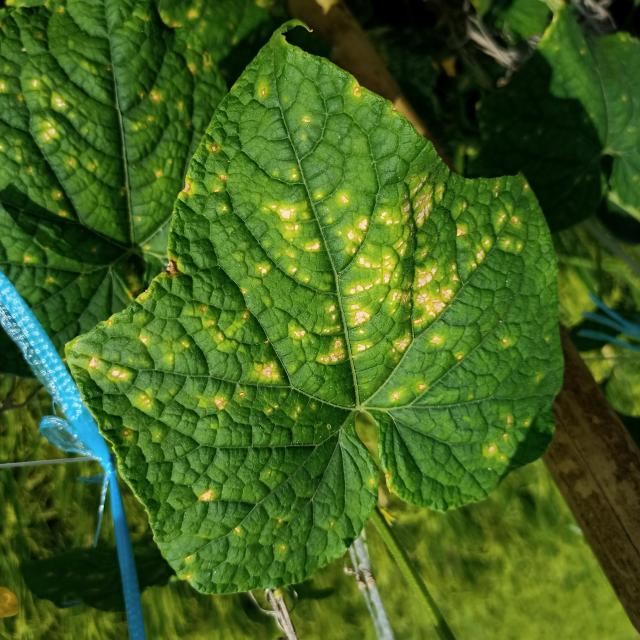disease_cucumber: (89, 95, 557, 535)
